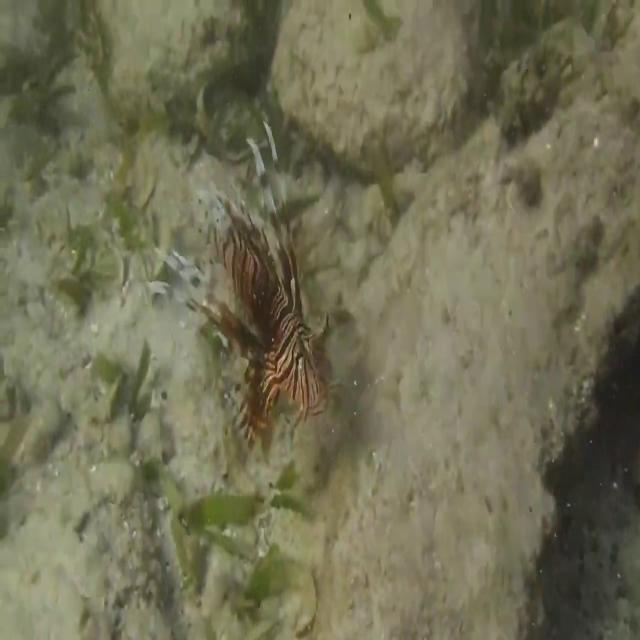Aslan Baligi: (185, 118, 338, 454)
